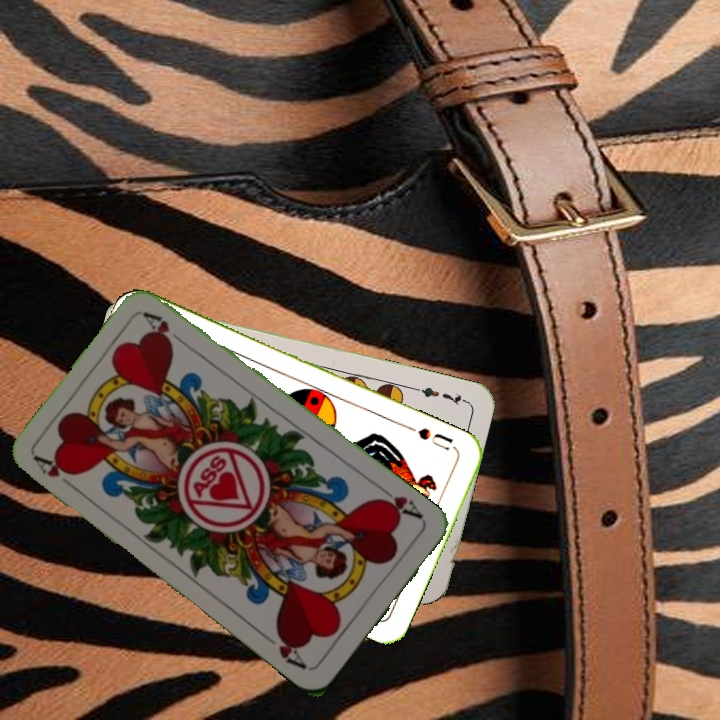E7: (411, 383, 469, 408)
HA: (371, 482, 426, 523), (31, 452, 82, 494)
SU: (413, 423, 456, 454)
